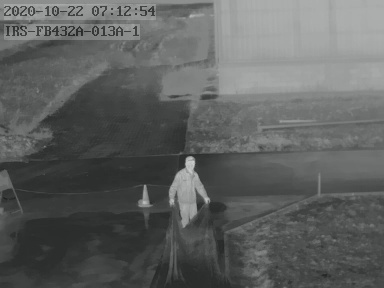person: (169, 156, 209, 226)
